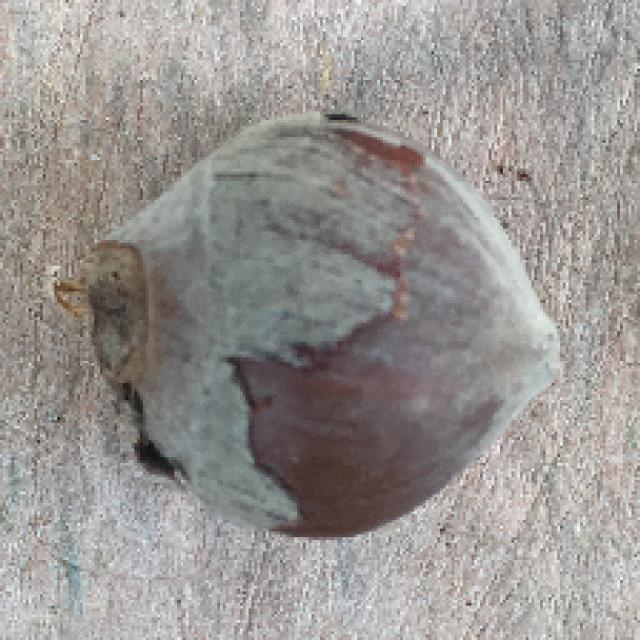DamagedHazelnut: (50, 120, 556, 539)
